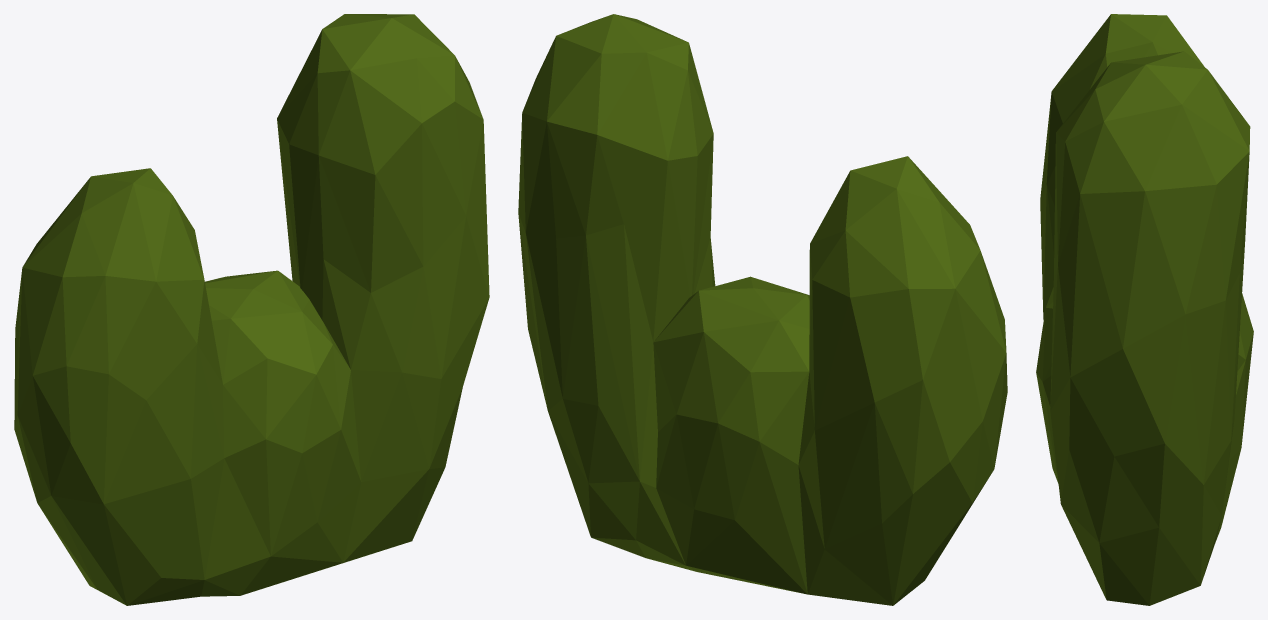
Rendered from TreesAndBushes_007.fbx.
The picture shows the model from 3 angles, left to right: view 1: azimuth 30°, elevation 25°; view 2: azimuth 150°, elevation 25°; view 3: azimuth 270°, elevation 25°; orthographic projection. The views are drawn at different scales.
Visible parts, largest first — view 1: TreesAndBushes_007; view 2: TreesAndBushes_007; view 3: TreesAndBushes_007.
Part boxes in pixels (x1,y1,x2,y2): TreesAndBushes_007: [14, 14, 489, 605]; TreesAndBushes_007: [518, 14, 1007, 605]; TreesAndBushes_007: [1036, 14, 1253, 605].
Size of the model in its own units: 65.84 by 70.55 by 25.93.
